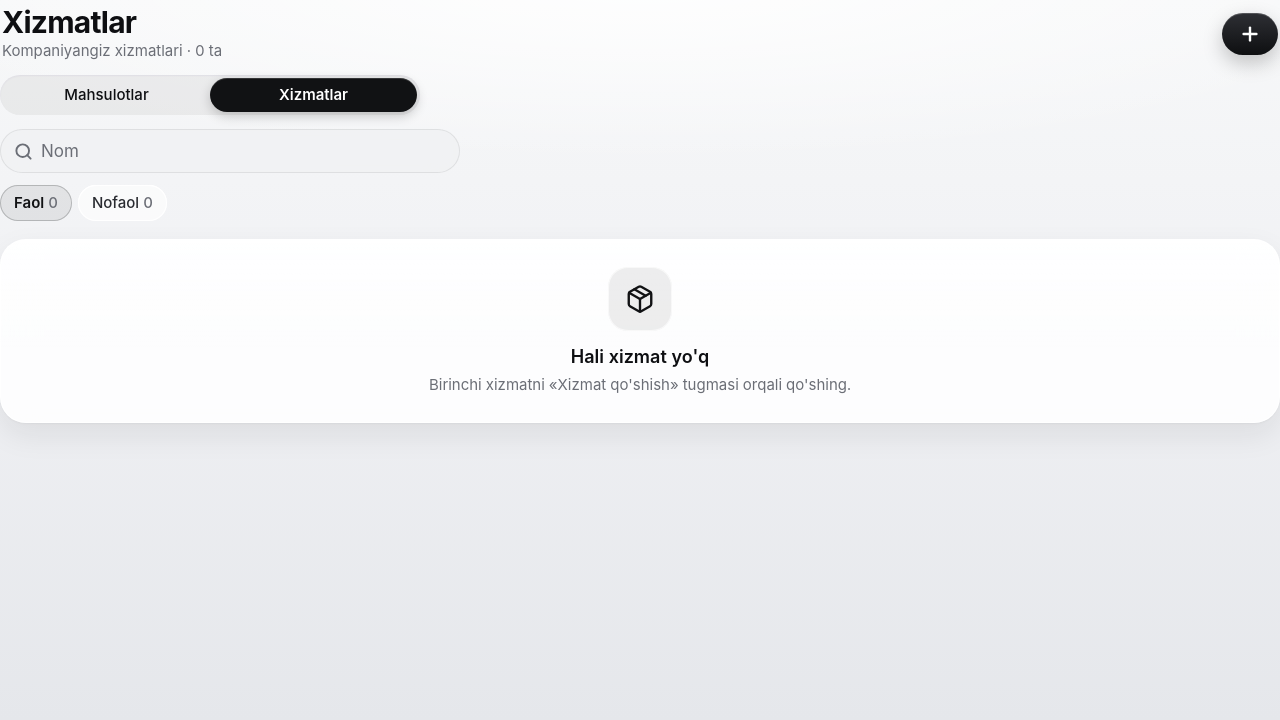
it: the round + adds a product, or a service on the services' page
Click the button named "Xizmat qo'shish" at (1250,34), box [1222,13,1278,55]
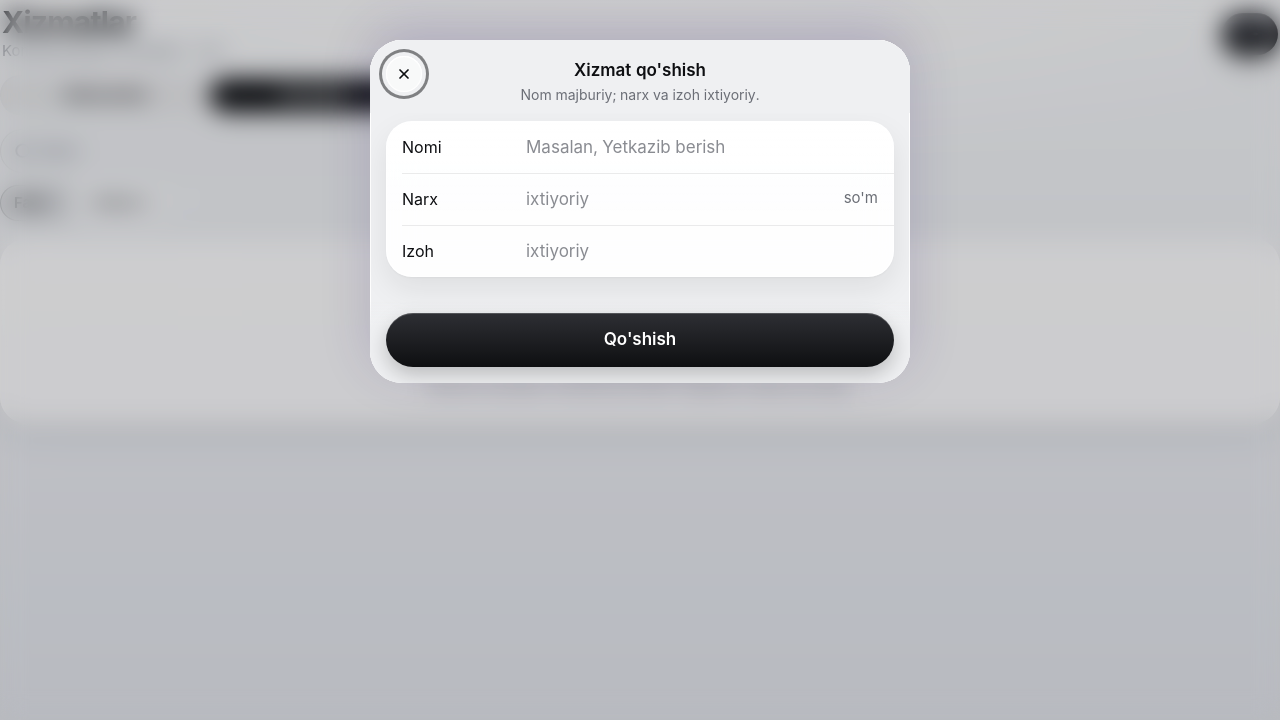
Expected: the dialog "Xizmat qo'shish" is shown, [370,40,910,382]
